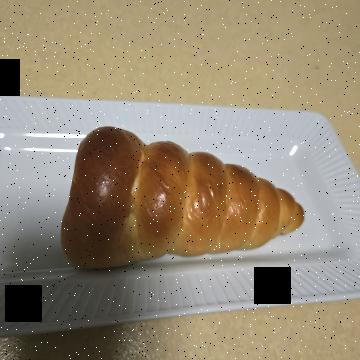cream horn: (100, 49, 285, 318)
